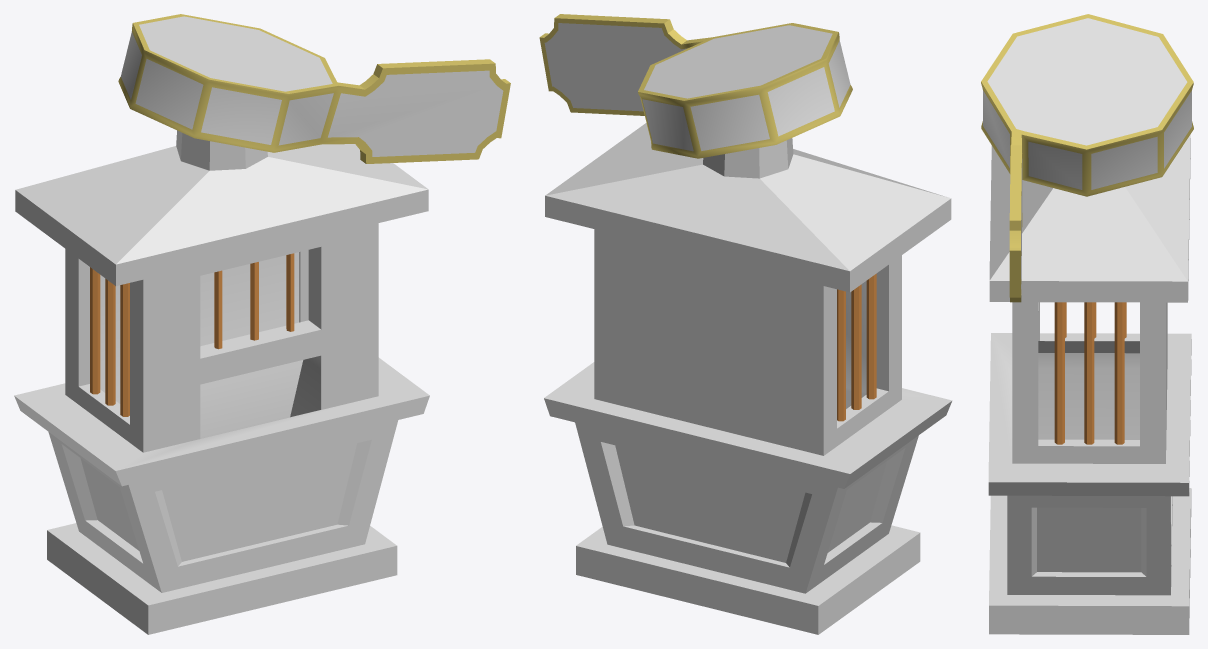
The model's file is TicketStand.fbx.
3 renders of one model, left to right at view 1: azimuth 30°, elevation 25°; view 2: azimuth 150°, elevation 25°; view 3: azimuth 270°, elevation 25°, orthographic. The views are drawn at different scales.
Visible parts, largest first — view 1: TicketStand.001; view 2: TicketStand.001; view 3: TicketStand.001.
Part boxes in pixels (x1,y1,x2,y2): TicketStand.001: [14, 14, 510, 634]; TicketStand.001: [539, 14, 952, 634]; TicketStand.001: [981, 14, 1193, 634].
Bounding box in the file's own units: 344 × 436 × 160.
